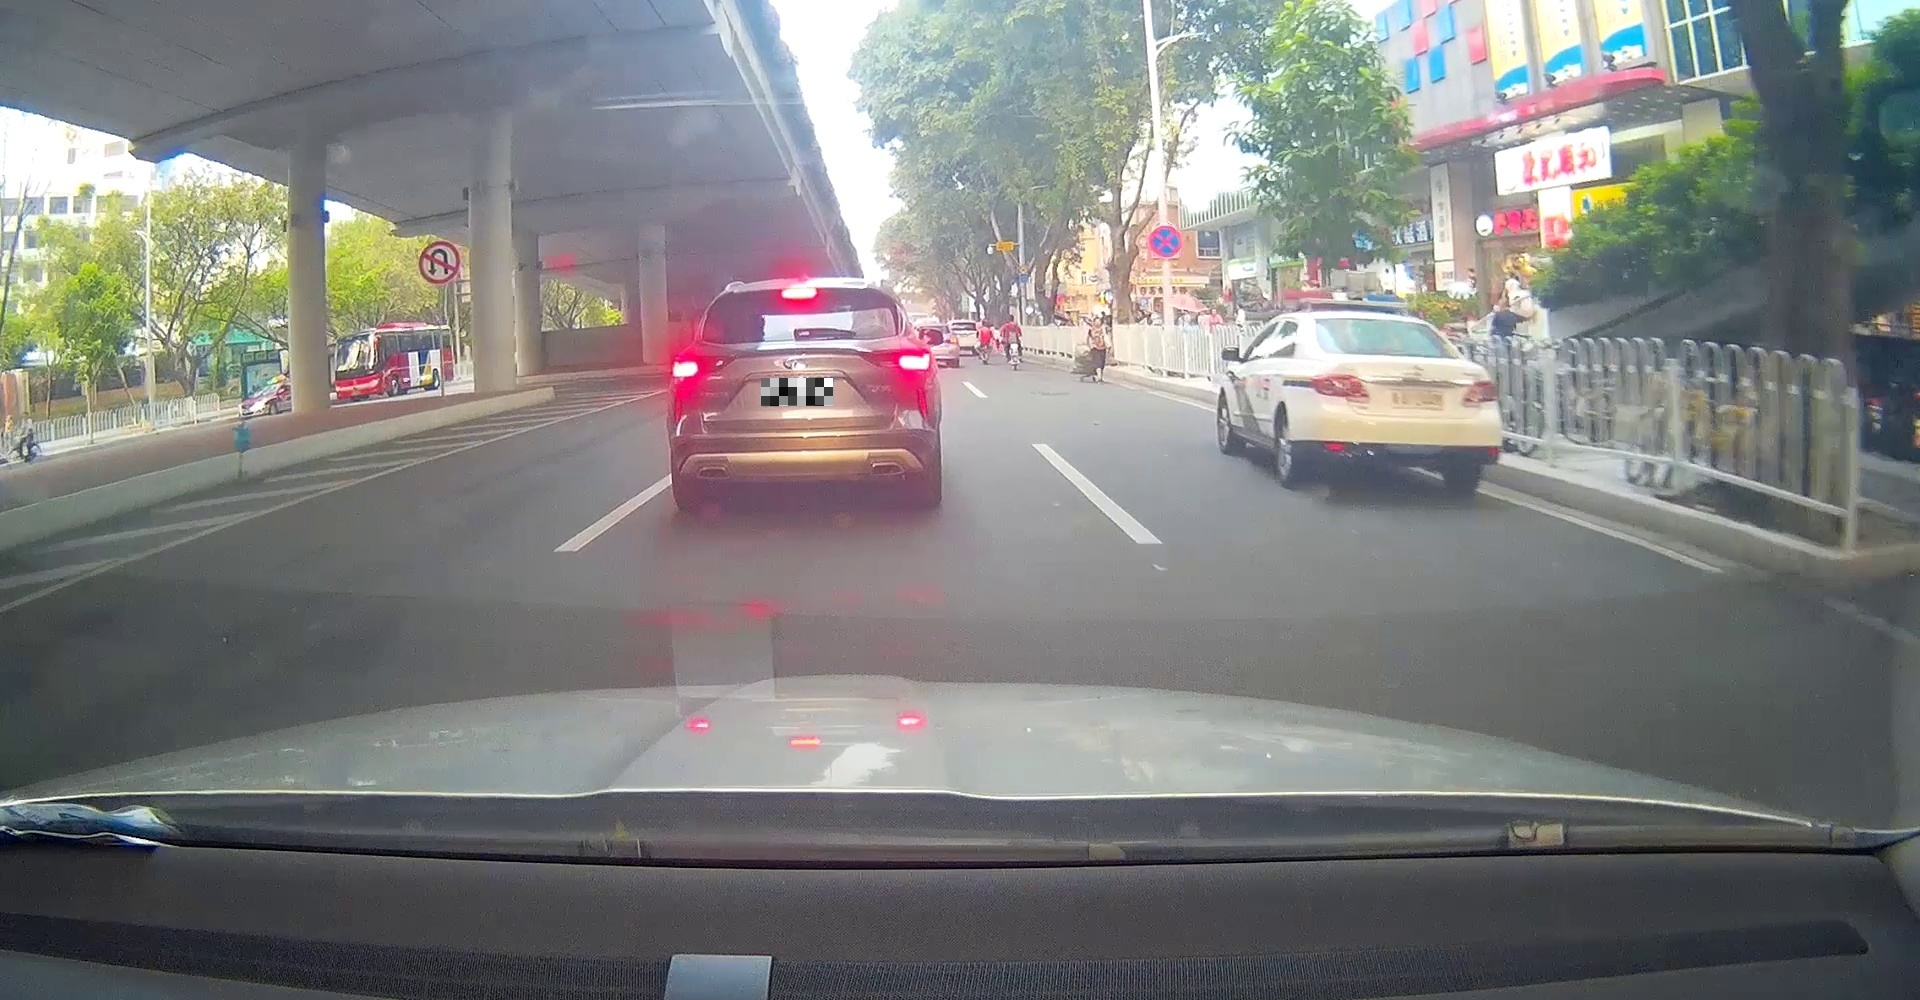L_light: (1310, 374, 1369, 398), (672, 354, 725, 378)
R_light: (872, 349, 932, 376), (1462, 379, 1498, 402)
T_light: (780, 286, 818, 299), (1369, 316, 1398, 325)
day-brake: (670, 277, 935, 510)
day-no: (1309, 311, 1503, 494)
plate_1: (761, 378, 833, 406)
